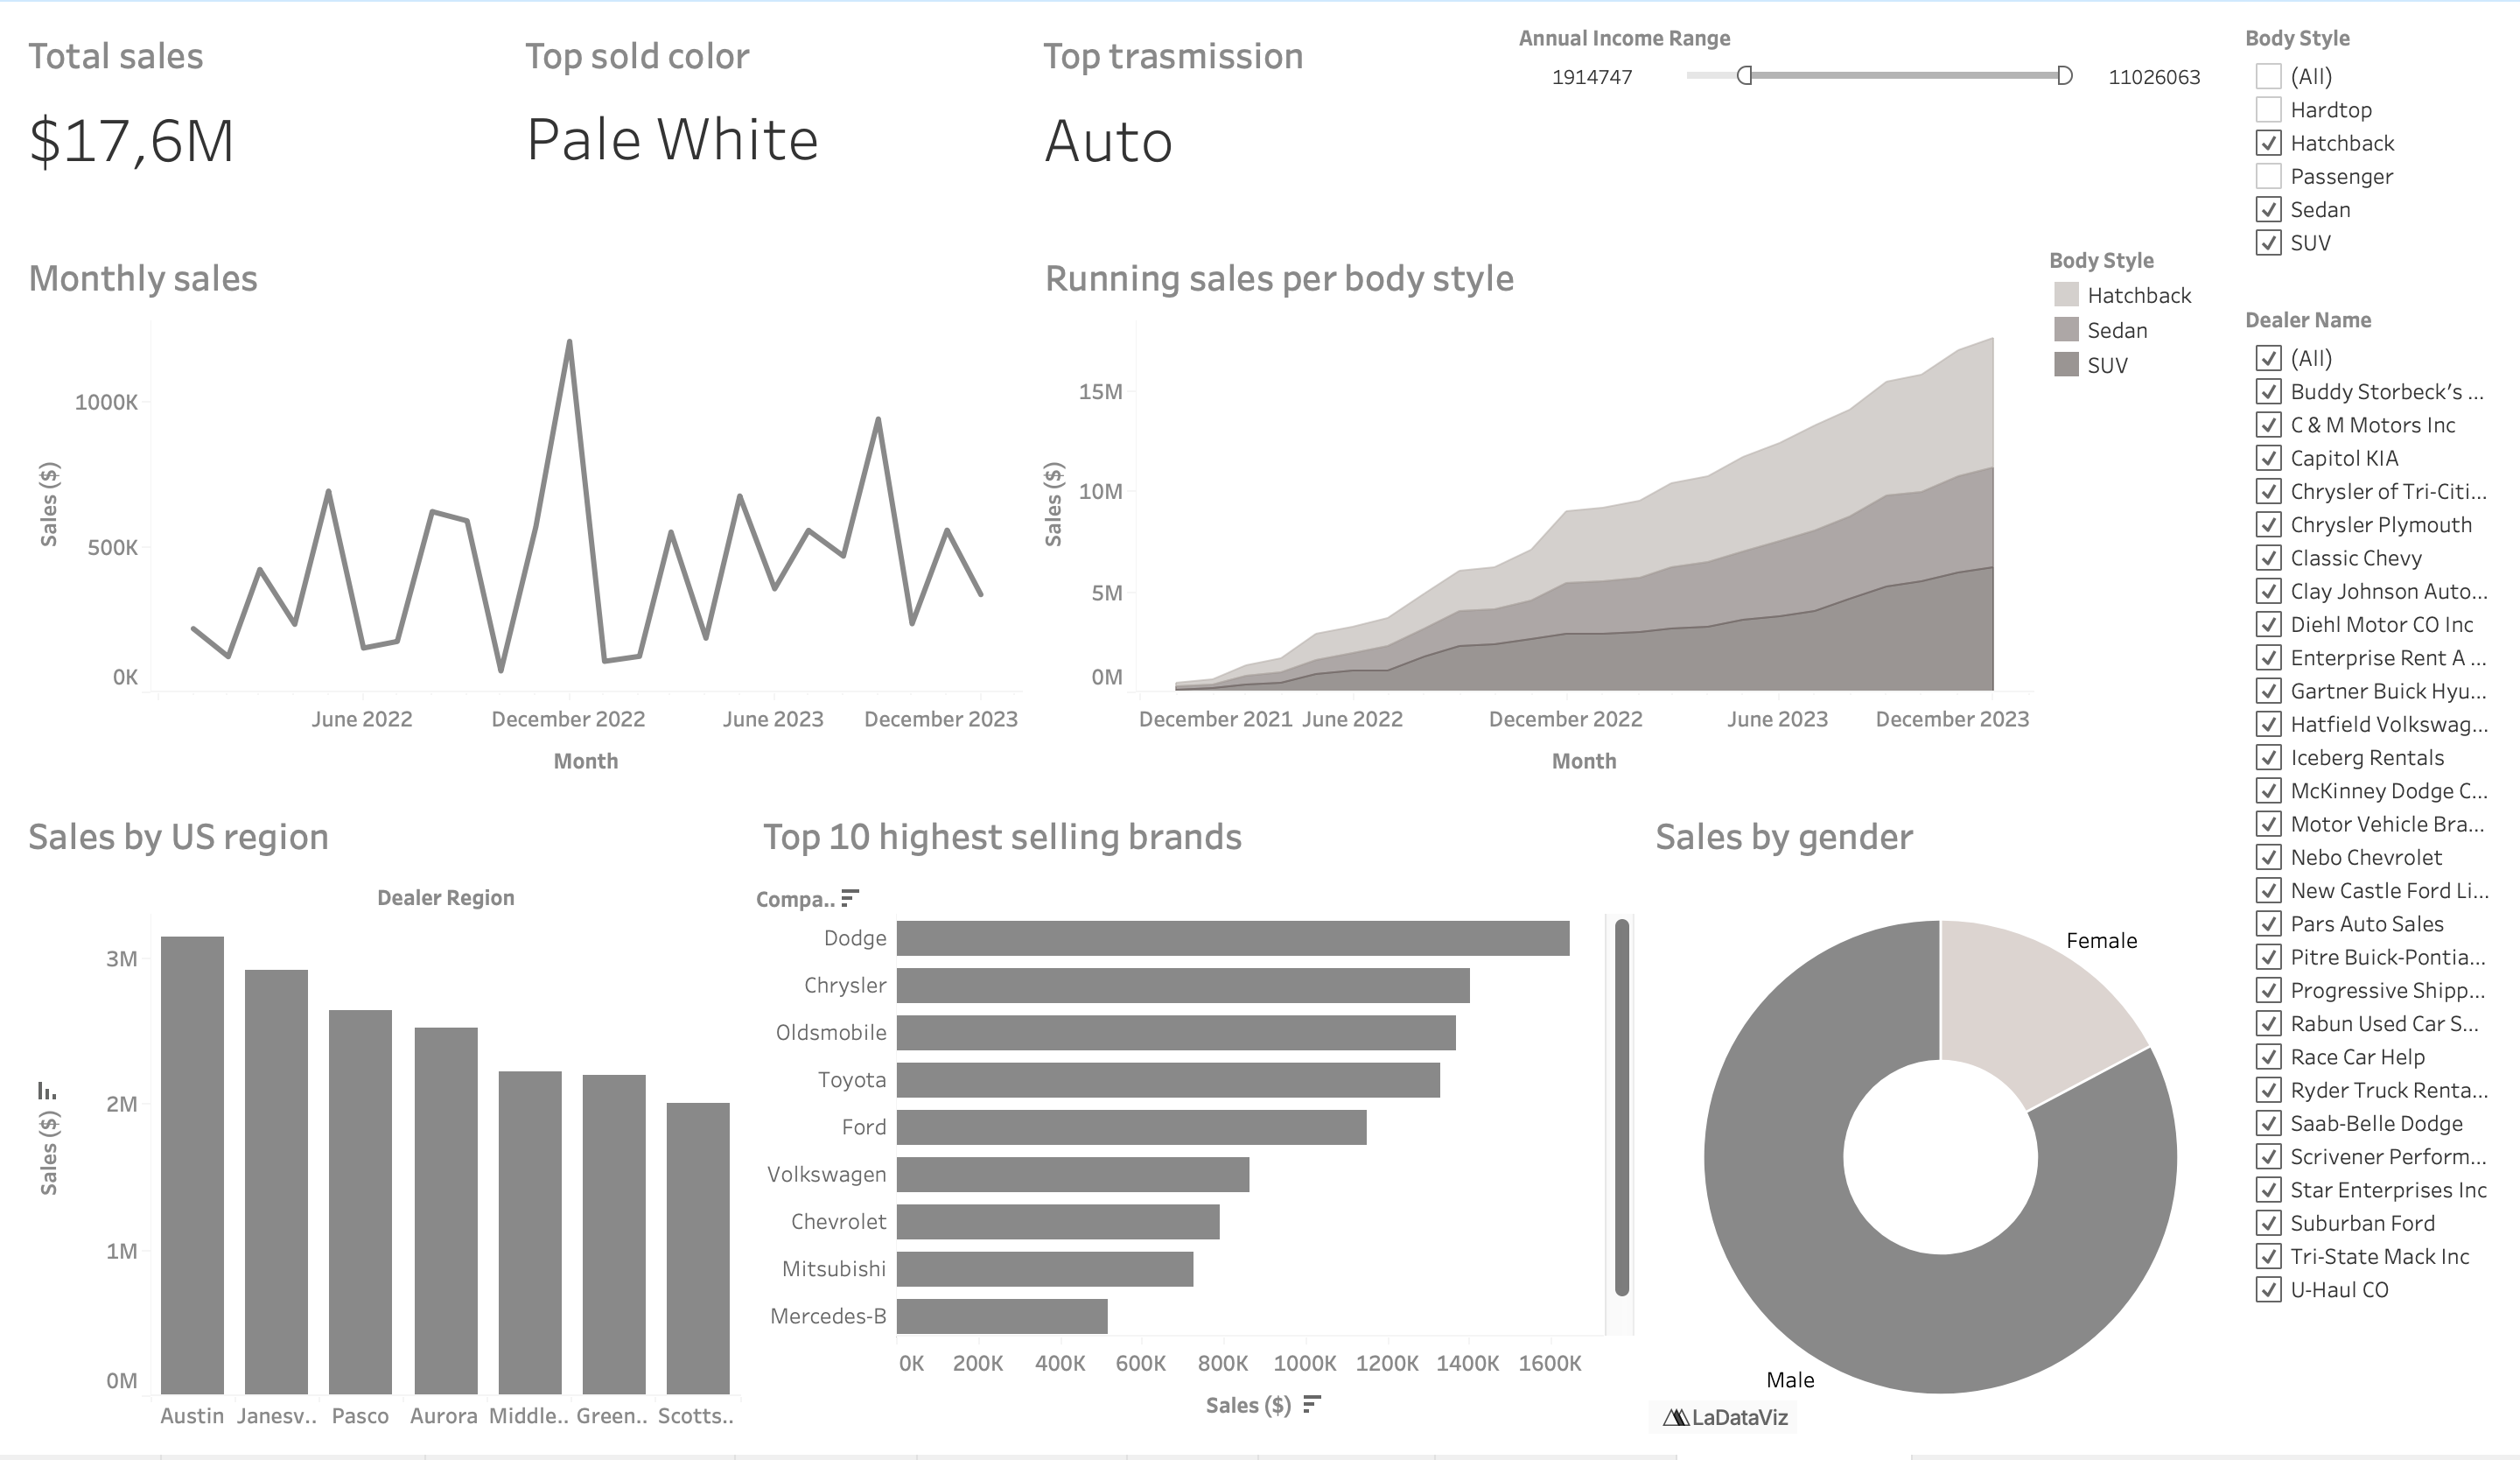

The dashboard page shown, as its layout file describes it:
{"tool":"tableau","page":{"name":"US sales 2022-23","canvas":[1000,1000],"units":"permille","ordinal":0},"visuals":[{"type":"worksheet","title":"Total sales","mark":"Automatic","box":[6.5,10.4,231.1,152.3]},{"type":"worksheet","title":"Most sold color","mark":"Automatic","box":[237.6,10.4,240.8,152.3]},{"type":"worksheet","title":"Preferred trasmission","mark":"Automatic","box":[478.4,10.4,224.6,152.3]},{"type":"filter","title":"Monthly sales","param":"[federated.1j5pt131xijbo519kc4d30fo5uyh].[none:Annual Income:qk]","box":[703,10.4,184.7,152.3]},{"type":"filter","title":"Monthly sales","param":"[federated.1j5pt131xijbo519kc4d30fo5uyh].[none:Body Style:nk]","box":[887.7,10.4,105.8,194]},{"type":"worksheet","title":"Monthly sales","mark":"Line","rows":["Price ($)"],"cols":["Date"],"box":[6.5,162.8,396.2,384.1]},{"type":"worksheet","title":"Running sales per body style","mark":"Area","cols":["Date"],"box":[402.7,162.8,393.8,384.1]},{"type":"legend","title":"Running sales per body style","param":"[federated.1j5pt131xijbo519kc4d30fo5uyh].[none:Body Style:nk]","box":[796.6,162.8,91.1,112]},{"type":"filter","title":"Monthly sales","param":"[federated.1j5pt131xijbo519kc4d30fo5uyh].[none:Dealer_Name:nk]","box":[887.7,204.4,105.8,759.1]},{"type":"worksheet","title":"Sales by US region","mark":"Automatic","rows":["Price ($)"],"cols":["Dealer_Region"],"box":[6.5,546.9,341.7,442.7]},{"type":"worksheet","title":"Top 10 brands per sales","mark":"Automatic","rows":["Company"],"cols":["Price ($)"],"box":[348.2,546.9,262,442.7]},{"type":"worksheet","title":"Sales by gender","box":[610.2,546.9,277.5,442.7]}]}

Visuals, with their boxes on the dashboard's canvas, which has no fixed pixel size, in thousandths of its width and height (x1, y1, x2, y2). These are canvas units, not pixel positions in the 2520x1460 screenshot, which may show the page scaled, cropped or inside an application window:
"Total sales" worksheet: region(6, 10, 238, 163)
"Most sold color" worksheet: region(238, 10, 478, 163)
"Preferred trasmission" worksheet: region(478, 10, 703, 163)
"Monthly sales" filter: region(703, 10, 888, 163)
"Monthly sales" filter: region(888, 10, 994, 204)
"Monthly sales" worksheet (Line marks): region(6, 163, 403, 547)
"Running sales per body style" worksheet (Area marks): region(403, 163, 796, 547)
"Running sales per body style" legend: region(797, 163, 888, 275)
"Monthly sales" filter: region(888, 204, 994, 964)
"Sales by US region" worksheet: region(6, 547, 348, 990)
"Top 10 brands per sales" worksheet: region(348, 547, 610, 990)
"Sales by gender" worksheet: region(610, 547, 888, 990)
